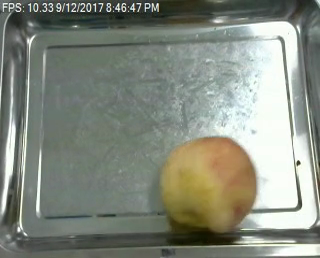Peach: (161, 136, 257, 232)
